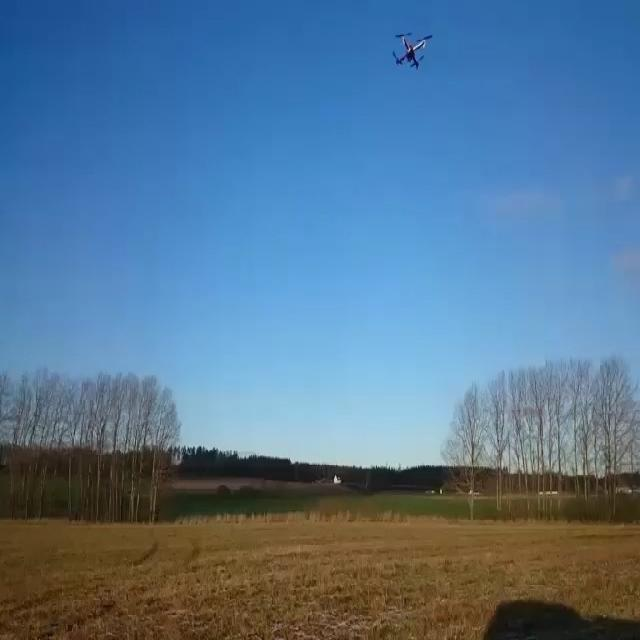drone: (392, 28, 433, 72)
